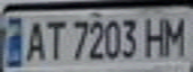0: (103, 16, 124, 61)
2: (87, 16, 106, 62)
3: (121, 15, 142, 61)
7: (66, 16, 90, 62)
A: (21, 16, 48, 63)
H: (139, 12, 172, 59)
M: (160, 11, 190, 58)
T: (42, 16, 66, 62)
